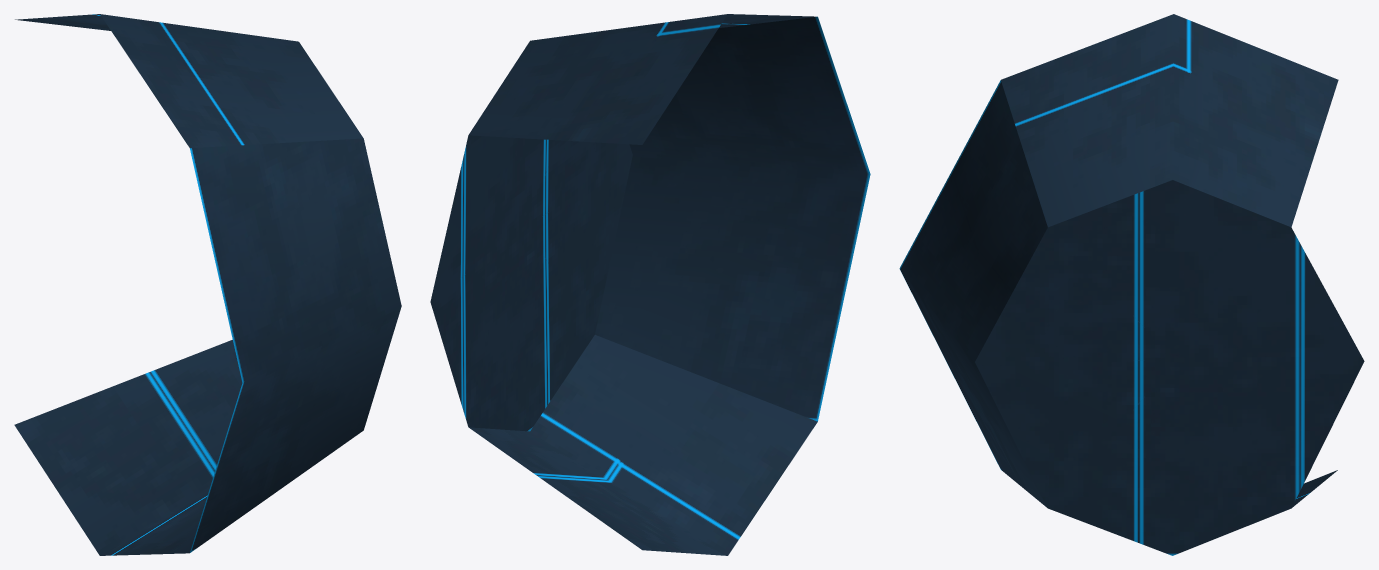
Rendered from pipe line End.fbx.
3 renders of one model, left to right at view 1: azimuth 30°, elevation 25°; view 2: azimuth 150°, elevation 25°; view 3: azimuth 270°, elevation 25°, orthographic. The views are drawn at different scales.
Parts seen in each view (by area): view 1: polySurface2; view 2: polySurface2; view 3: polySurface2.
Boxes of the visible parts, bbox=[...] form: polySurface2: bbox=[14, 14, 401, 555]; polySurface2: bbox=[430, 14, 870, 555]; polySurface2: bbox=[899, 14, 1364, 555].
Size of the model in its own units: 3.55 by 9.14 by 7.39.
